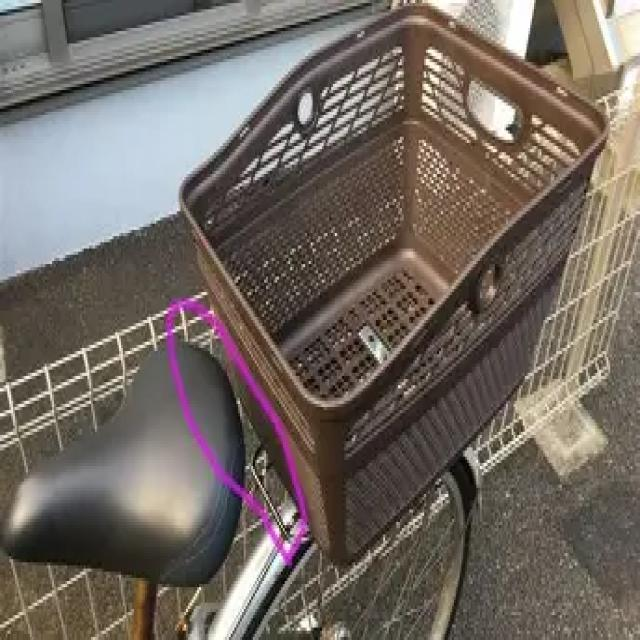basket: (178, 4, 608, 566)
